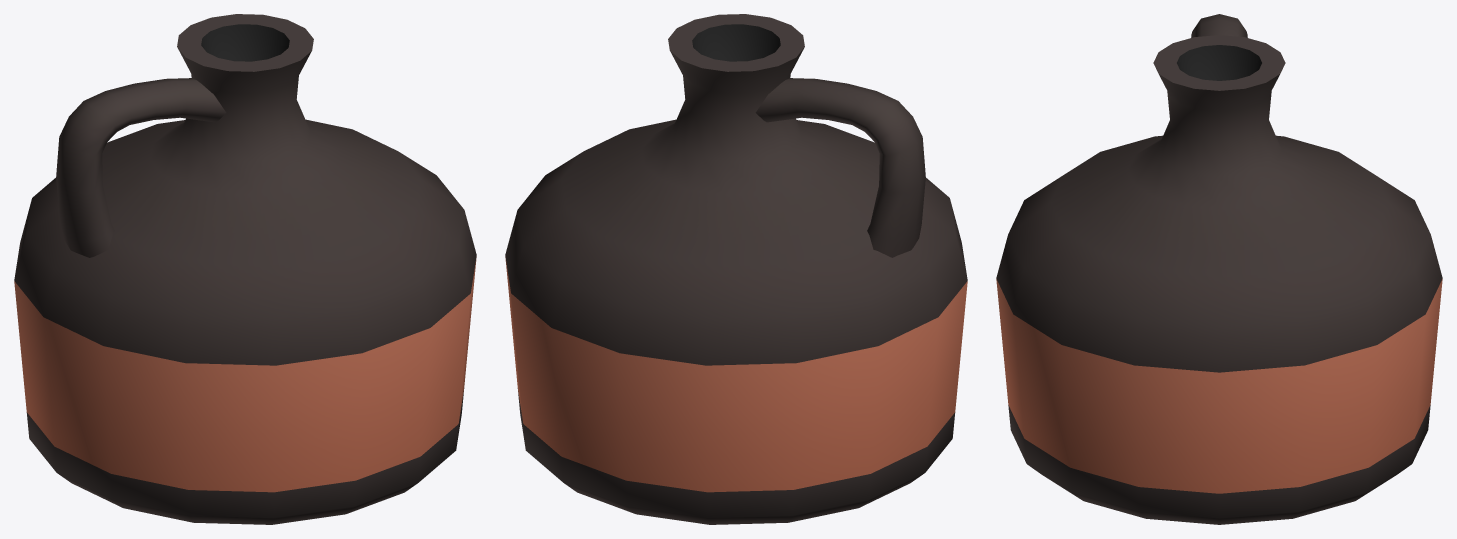
The model's file is vase_001.glb.
The picture shows the model from 3 angles, left to right: view 1: azimuth 30°, elevation 25°; view 2: azimuth 150°, elevation 25°; view 3: azimuth 270°, elevation 25°; orthographic projection. The views are drawn at different scales.
Parts seen in each view (by area): view 1: vase_001; view 2: vase_001; view 3: vase_001.
Boxes of the visible parts, left/top/right/bottom form: vase_001: left=14, top=14, right=476, bottom=524; vase_001: left=505, top=14, right=967, bottom=524; vase_001: left=996, top=14, right=1442, bottom=524.
Bounding box in the file's own units: 1.11 × 1.05 × 1.11.
1 material, 1 textured.
